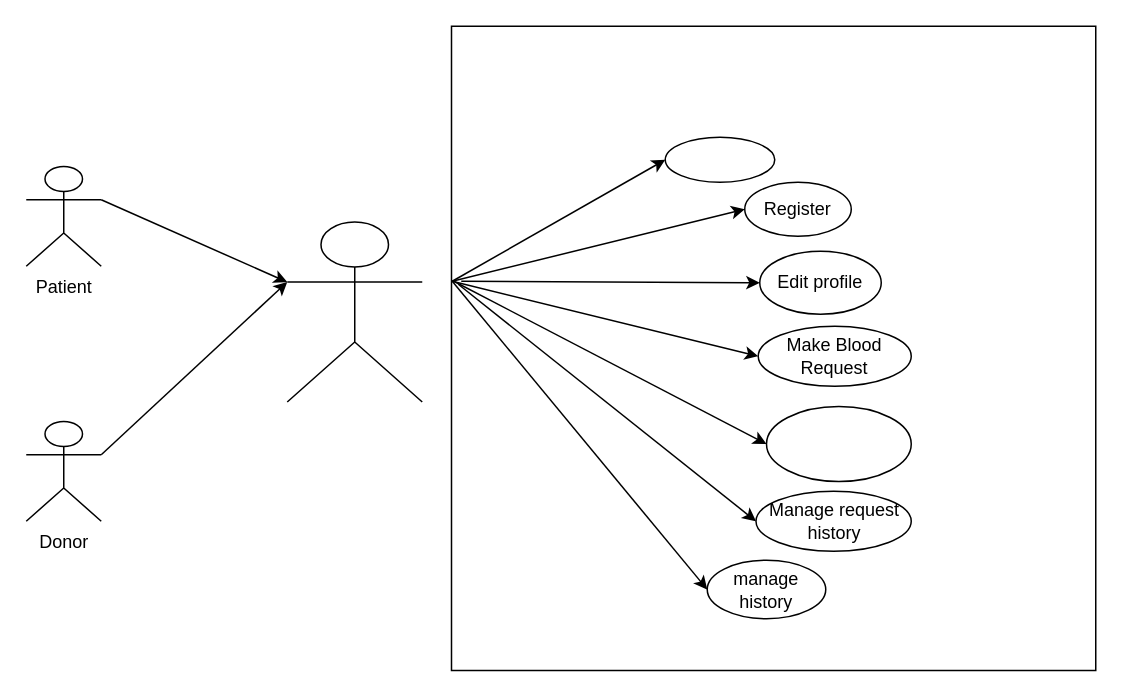
Image size: 1122x698. Some labels were removed from this diagram. The shapes that lost their labels are listed below. From the top down, each one's centre as x and y in pixels, then its label:
the point at 719,159: Login
the point at 354,311: Clients
the point at 838,443: Make Donation Request
